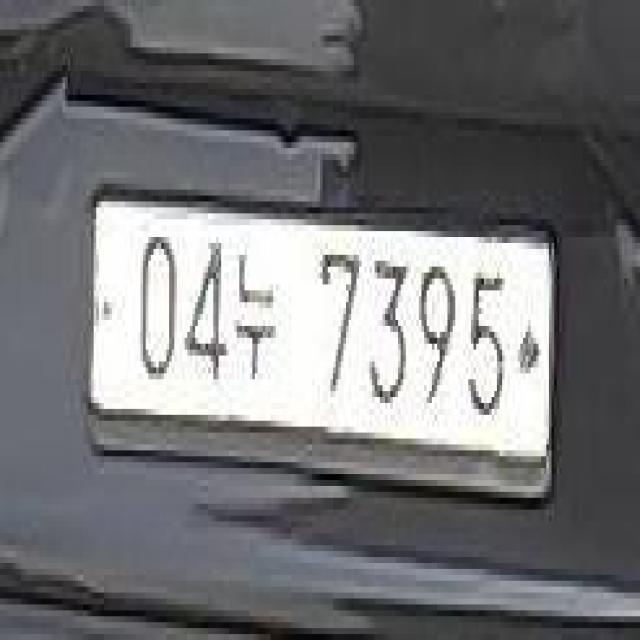illegal_plate: (88, 180, 560, 517)
